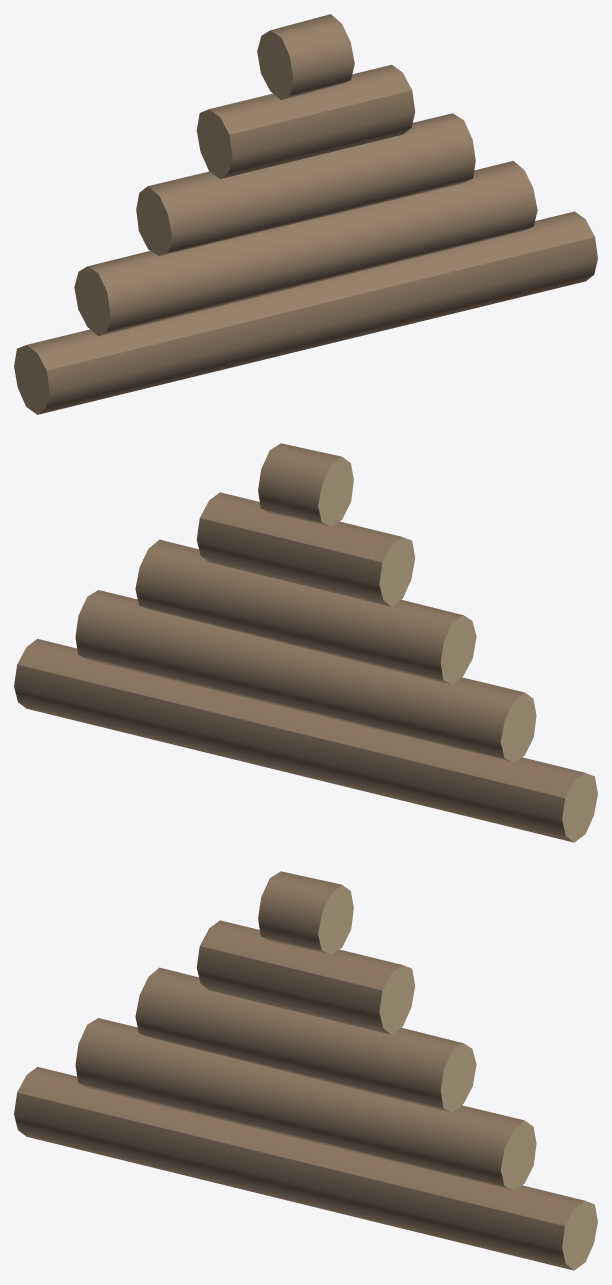
Rendered from log_peak_steep.glb.
3 renders of one model, top to bottom at view 1: azimuth 30°, elevation 25°; view 2: azimuth 150°, elevation 25°; view 3: azimuth 330°, elevation 25°, orthographic.
Visible parts, largest first — view 1: Wall; view 2: Wall; view 3: Wall.
Boxes of the visible parts, box(x1,y1,x2,y2) form: Wall: box(14, 14, 597, 414); Wall: box(14, 443, 597, 842); Wall: box(14, 871, 597, 1270).
Size of the model in its own units: 2.7 by 1.5 by 0.3145.
